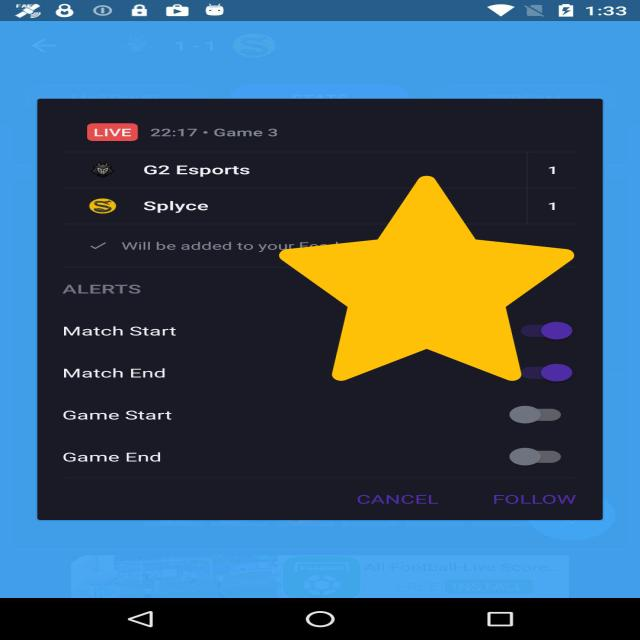forced continuity: (279, 176, 574, 381)
